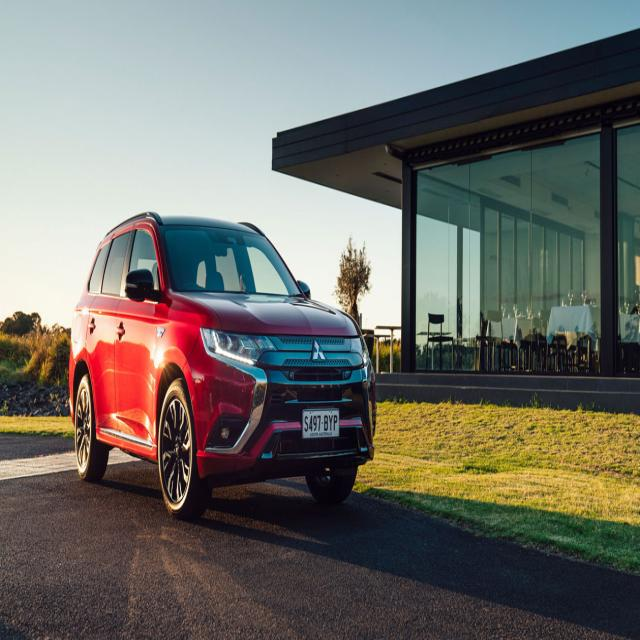light_vehicle: (68, 212, 377, 520)
